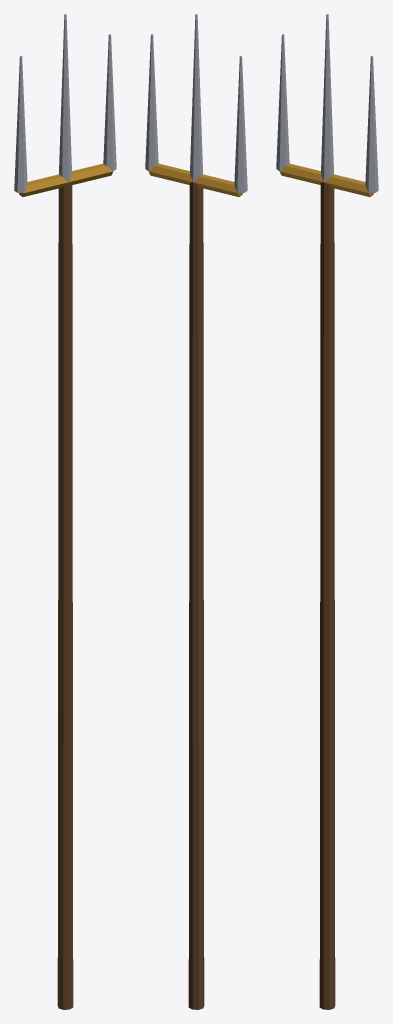
The model's file is g-trident.glb.
3 renders of one model, left to right at view 1: azimuth 30°, elevation 25°; view 2: azimuth 150°, elevation 25°; view 3: azimuth 330°, elevation 25°, orthographic.
Visible parts, largest first — view 1: g-trident; view 2: g-trident; view 3: g-trident.
Boxes of the visible parts, bbox=[...] form: g-trident: bbox=[14, 14, 116, 1009]; g-trident: bbox=[145, 14, 247, 1009]; g-trident: bbox=[276, 14, 378, 1009].
Size of the model in its own units: 0.2008 by 1.92 by 0.028.
